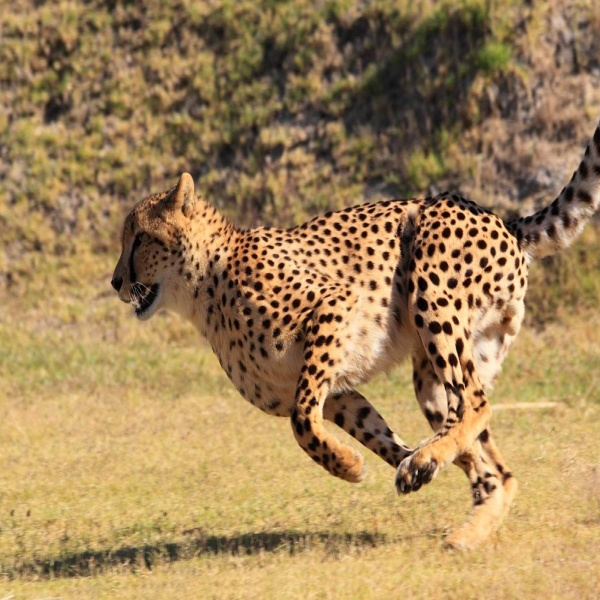Cheetah: (105, 126, 599, 556)
